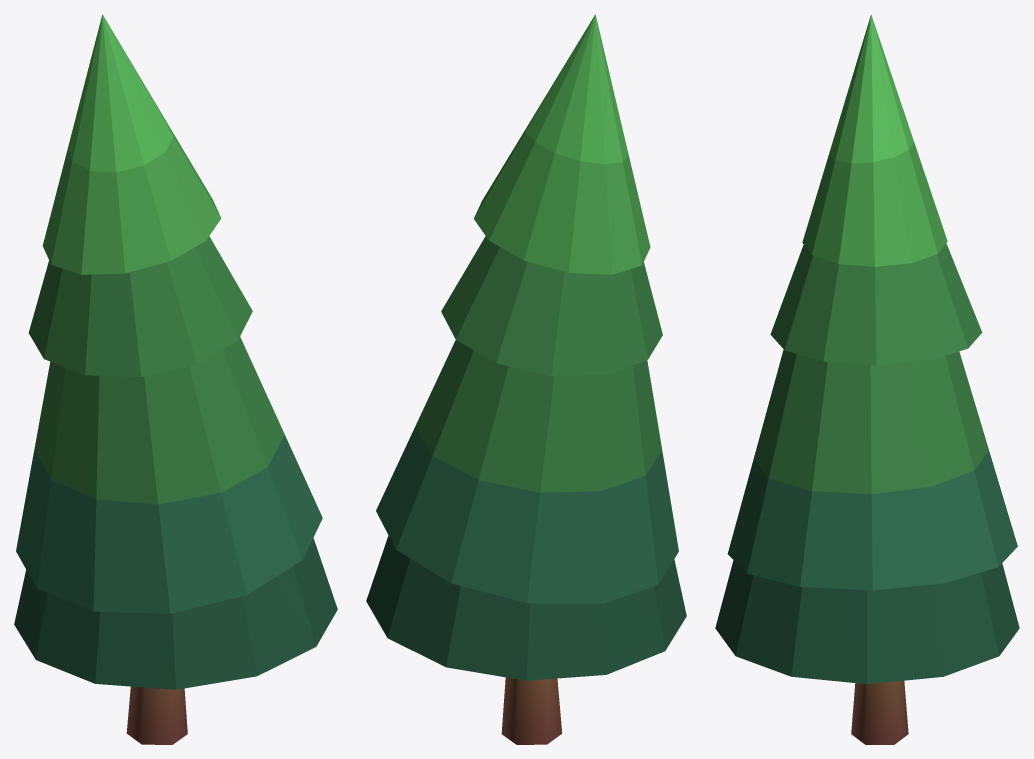
File: Low_Poly_Forest_treeTall01.glb
The picture shows the model from 3 angles, left to right: view 1: azimuth 30°, elevation 25°; view 2: azimuth 150°, elevation 25°; view 3: azimuth 270°, elevation 25°; orthographic projection. The views are drawn at different scales.
Visible parts, largest first — view 1: leaf_3, leaf, leaf_4, leaf_2, bark; view 2: leaf_3, leaf, leaf_4, leaf_2, bark; view 3: leaf_3, leaf_4, leaf, leaf_2, bark.
Part boxes in pixels (x1=…): leaf_3: x1=16, y1=336, x2=322, y2=613; leaf: x1=42, y1=14, x2=221, y2=274; leaf_4: x1=14, y1=538, x2=337, y2=689; leaf_2: x1=28, y1=236, x2=252, y2=376; bark: x1=126, y1=686, x2=187, y2=744; leaf_3: x1=376, y1=340, x2=678, y2=603; leaf: x1=473, y1=14, x2=650, y2=274; leaf_4: x1=366, y1=535, x2=686, y2=680; leaf_2: x1=441, y1=236, x2=662, y2=376; bark: x1=501, y1=677, x2=562, y2=744; leaf_3: x1=727, y1=349, x2=1017, y2=590; leaf_4: x1=715, y1=560, x2=1019, y2=684; leaf: x1=802, y1=14, x2=947, y2=266; leaf_2: x1=770, y1=243, x2=982, y2=365; bark: x1=851, y1=680, x2=908, y2=744.
Bounding box in the file's own units: 3.95 × 9.95 × 3.96.
1 material, 1 textured.
